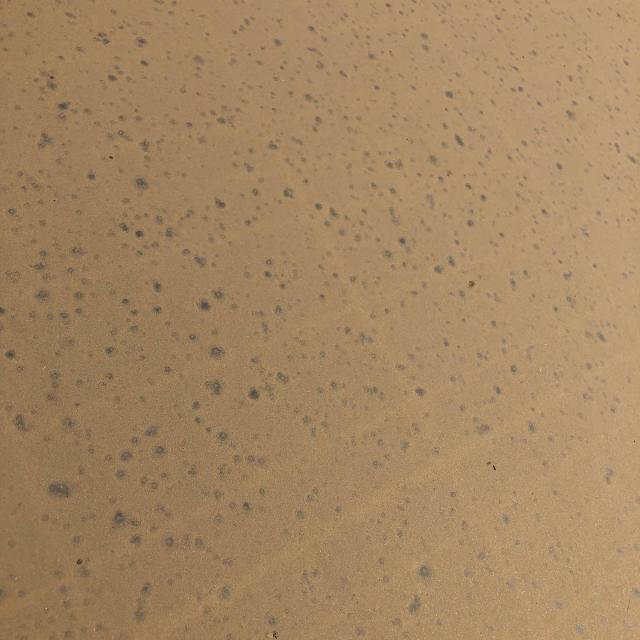faulty: (1, 1, 640, 628)
